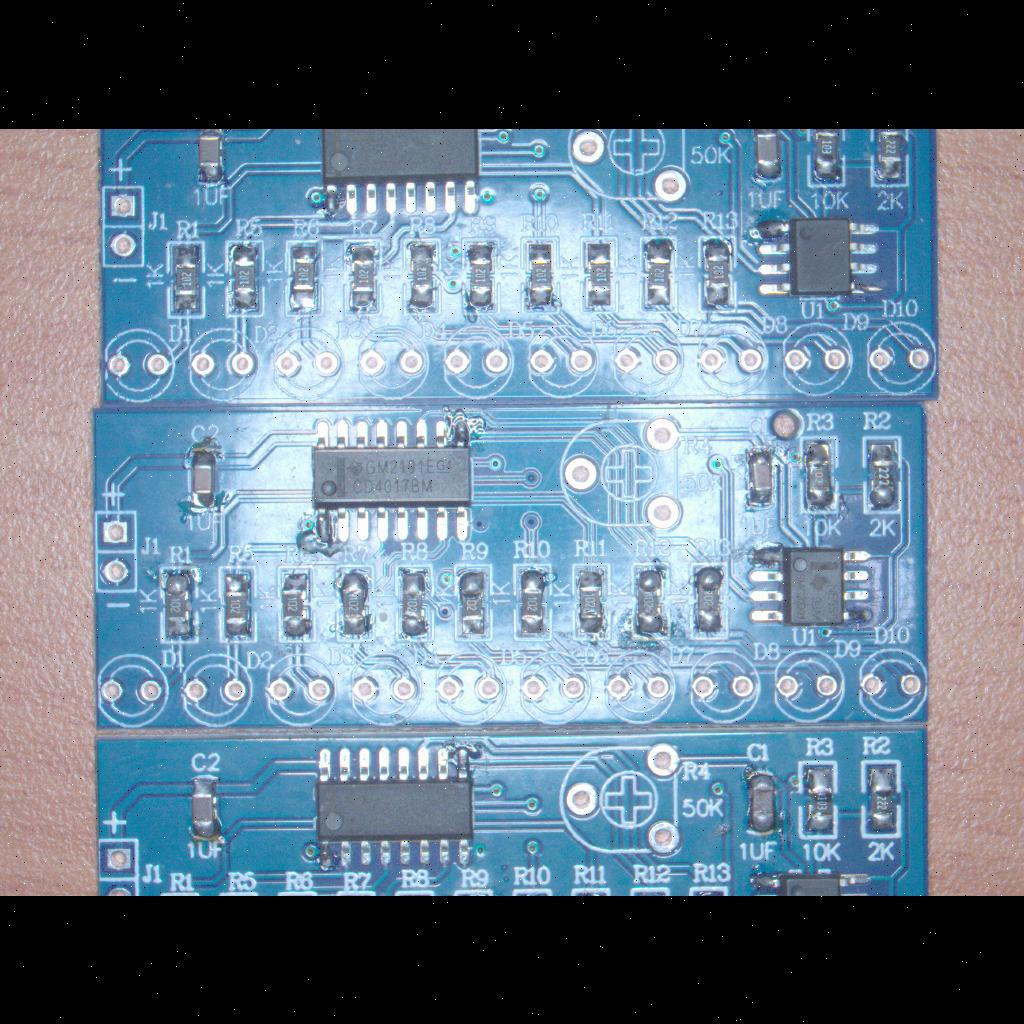OK: (304, 412, 482, 548), (309, 740, 483, 874), (306, 128, 494, 220), (750, 209, 892, 305), (740, 538, 886, 630), (455, 230, 505, 318), (858, 432, 908, 518), (856, 756, 906, 842), (516, 232, 566, 316), (796, 756, 844, 842), (798, 430, 844, 518), (574, 231, 622, 315), (338, 236, 384, 322), (694, 230, 740, 316), (214, 561, 260, 647), (566, 560, 614, 642), (398, 235, 444, 319), (450, 561, 496, 643), (332, 564, 380, 642), (163, 237, 207, 321), (157, 563, 201, 647), (280, 237, 326, 317), (393, 562, 437, 644), (509, 560, 553, 642), (629, 560, 673, 642), (222, 240, 268, 318), (638, 233, 680, 317), (688, 558, 730, 642), (274, 563, 316, 645), (185, 772, 227, 850), (739, 439, 783, 513), (180, 442, 224, 514), (866, 128, 916, 188), (742, 768, 782, 840), (188, 128, 236, 188), (806, 128, 848, 190), (748, 128, 788, 184)
